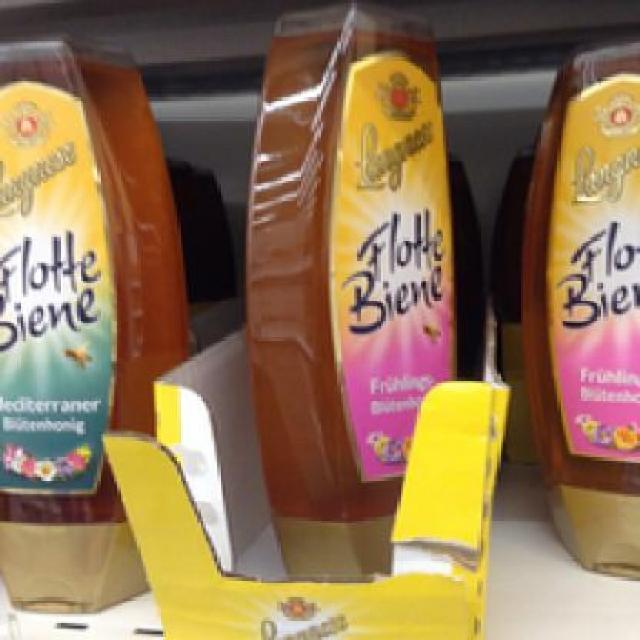Honey: (248, 3, 468, 583), (0, 34, 189, 612), (525, 37, 638, 597)
